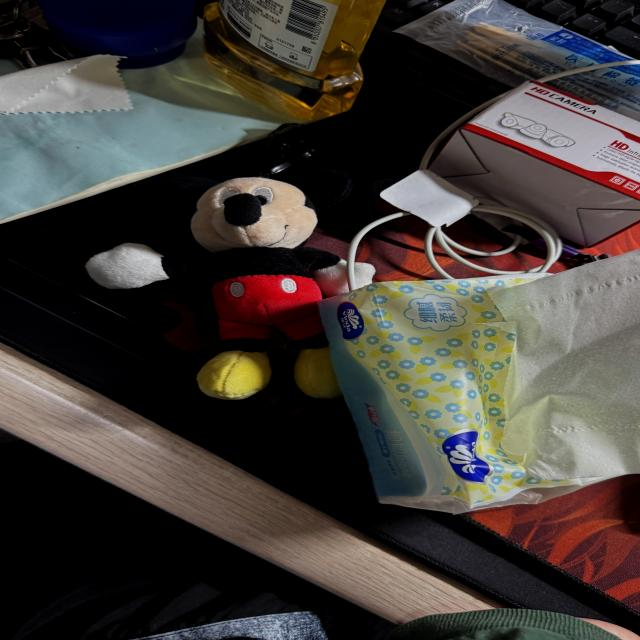mickey: (86, 170, 352, 399)
tissue: (319, 275, 603, 513), (489, 251, 639, 479)
